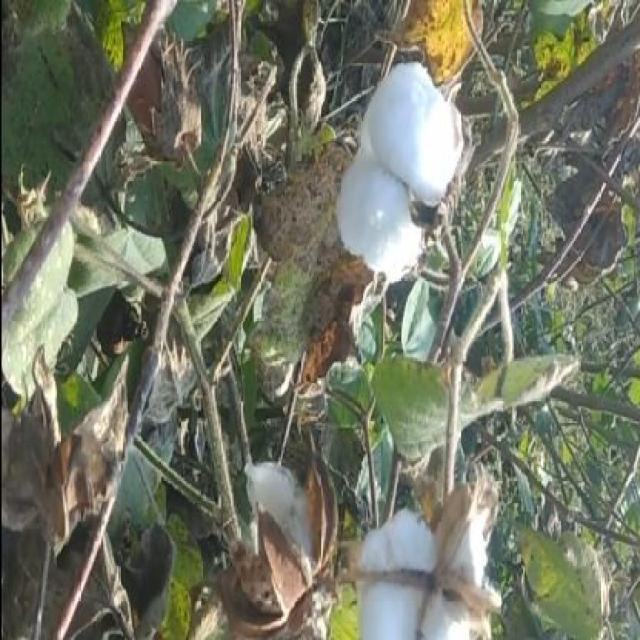cotton_ready: (320, 55, 488, 287)
